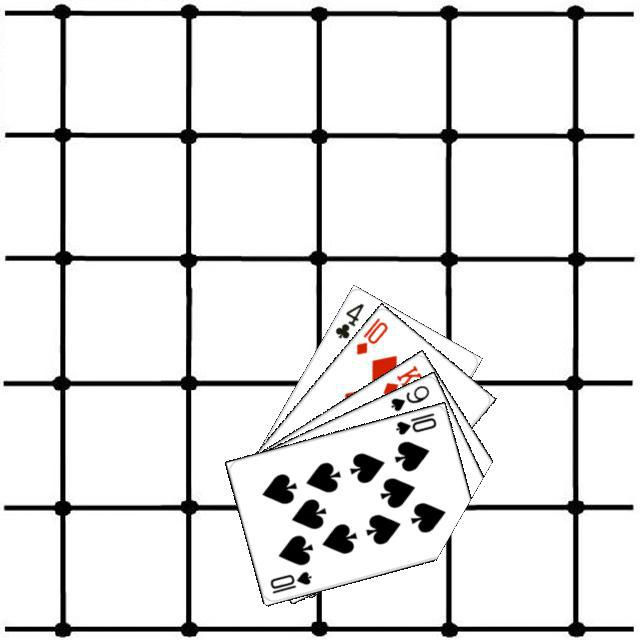10d: (351, 313, 390, 356)
10s: (265, 566, 313, 595), (391, 408, 438, 437)
4c: (330, 298, 365, 340)
9s: (386, 380, 431, 413)
Kd: (378, 360, 424, 397)
